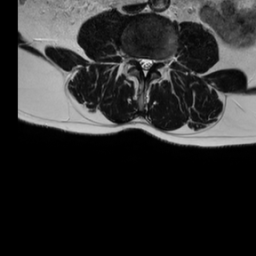CCS_normal: (143, 51, 148, 81)
LFS_severe_stenosis: (155, 52, 161, 70)
LLS_stenosis: (148, 54, 154, 73)
RFS_severe_stenosis: (130, 51, 137, 65)
RLS_stenosis: (137, 52, 143, 69)
